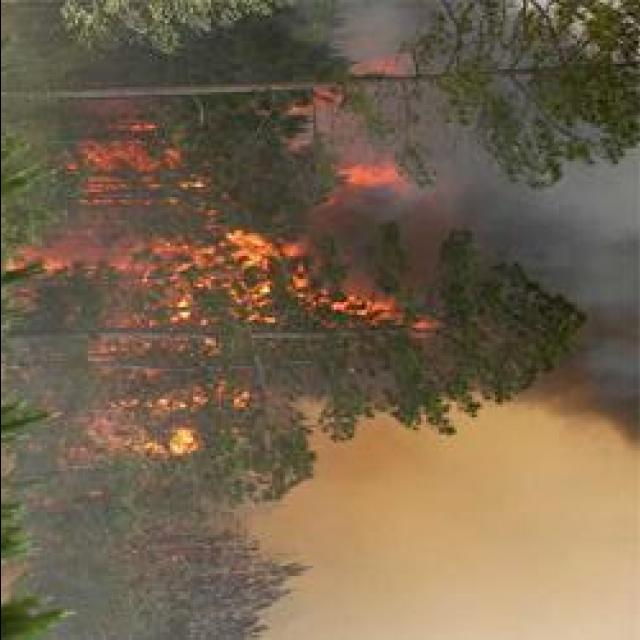fire: (228, 228, 268, 260), (170, 431, 194, 461)
smoke: (576, 294, 640, 441), (538, 184, 636, 279)
